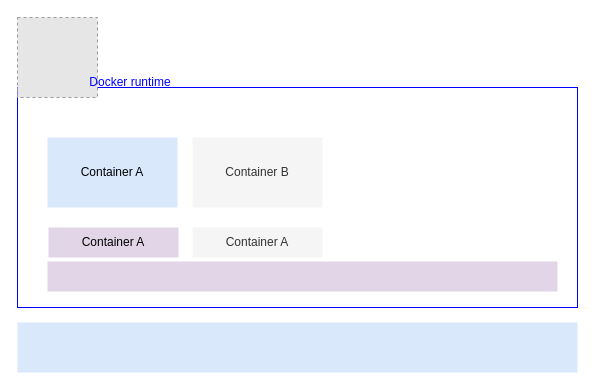
Some shapes in this 595 by 390 pixel diagram are drawn without their labels. Grey dashed boxes stand in for pictures. The centre of each missing label's shape, as x and y in pixels:
"Docker home (Graph) /var/lib/docker/container/*" goes at (302,276).
"Host" goes at (297,347).
